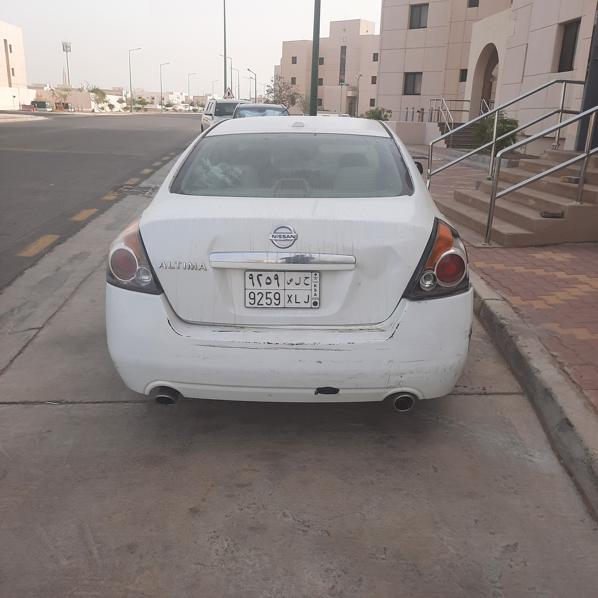numberplate: (244, 270, 320, 308)
